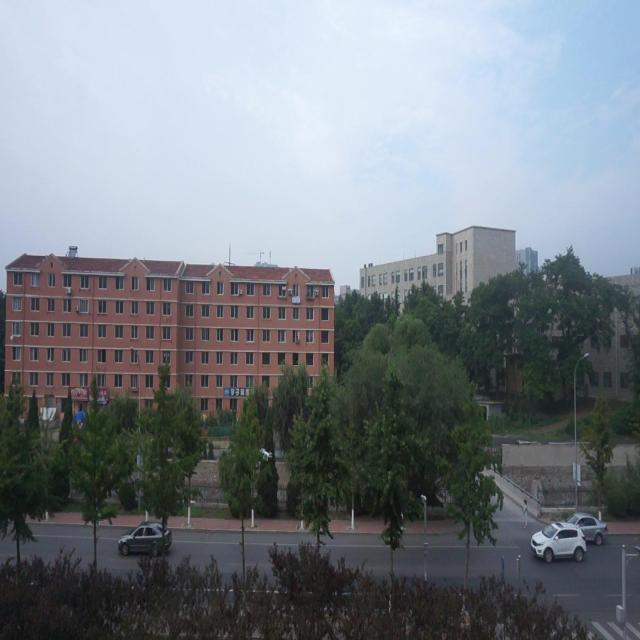drone: (258, 443, 274, 465)
